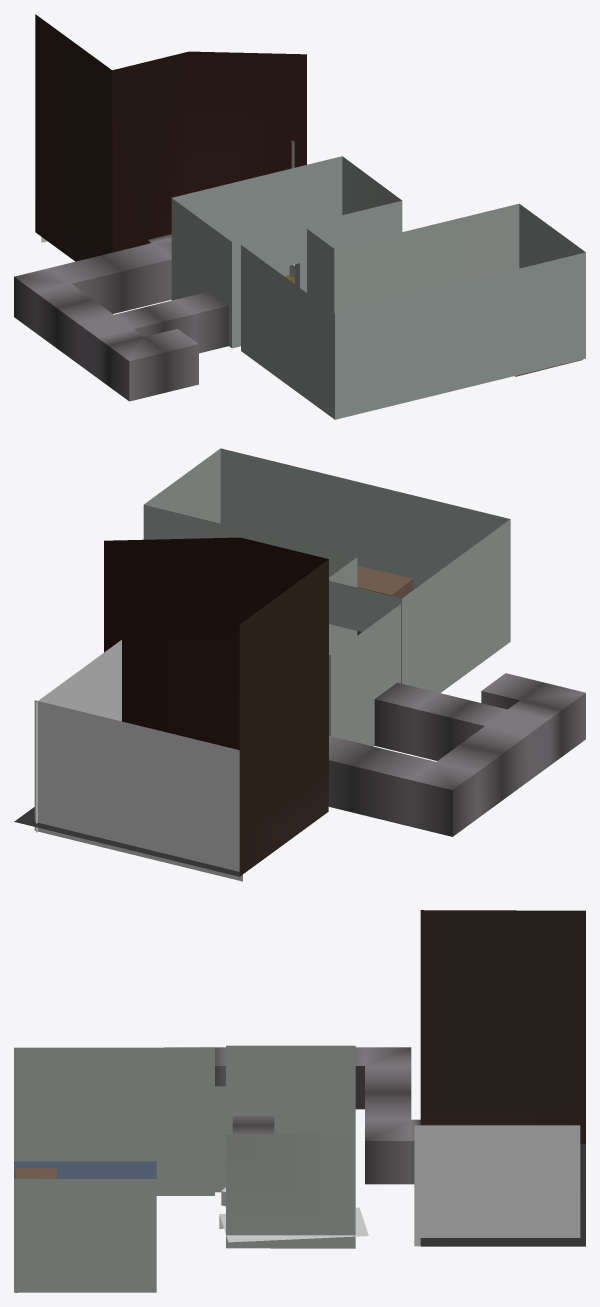
Rendered from Col.fbx.
3 renders of one model, top to bottom at view 1: azimuth 30°, elevation 25°; view 2: azimuth 150°, elevation 25°; view 3: azimuth 270°, elevation 25°, orthographic. The views are drawn at different scales.
Parts seen in each view (by area): view 1: Col; view 2: Col; view 3: Col.
Part boxes in pixels (x1,y1,x2,y2): Col: (14,14,585,419); Col: (14,448,585,881); Col: (14,910,585,1292).
Bounding box in the file's own units: 3272 × 1831 × 3917.
